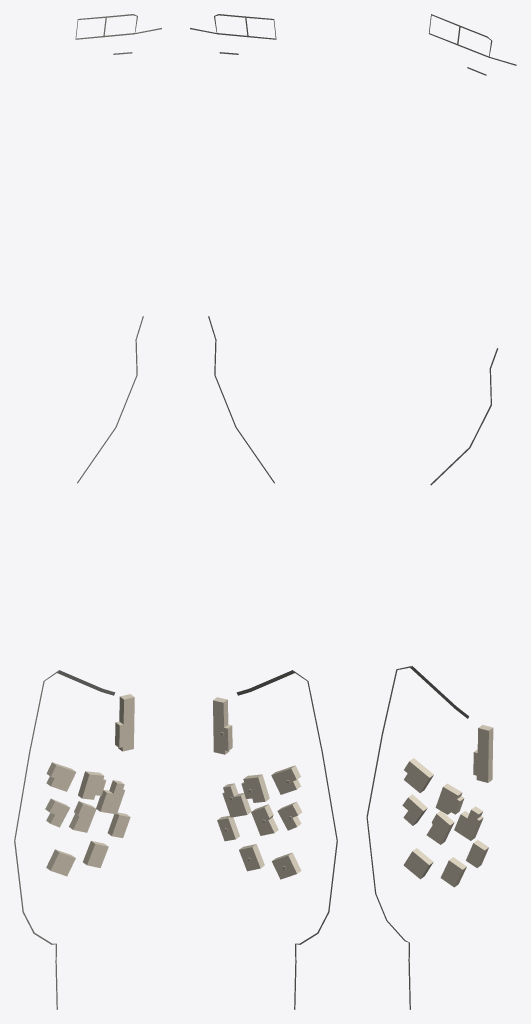
Rendered from historic-palestine-07_30_3488_3249.glb.
3 renders of one model, left to right at view 1: azimuth 30°, elevation 25°; view 2: azimuth 150°, elevation 25°; view 3: azimuth 330°, elevation 25°, orthographic.
Parts seen in each view (by area): view 1: Building_.001, Road .005, Building_.003, Building_.002, Building_.008, Building_, Building_.007, Building_.004, Building_.005, Building_.006; view 2: Building_.001, Road .005, Building_.003, Building_.002, Building_.008, Building_, Building_.007, Building_.004, Building_.005, Building_.006; view 3: Building_.001, Road .005, Building_.003, Building_.008, Building_.002, Building_, Building_.007, Building_.004, Building_.005, Building_.006.
Part boxes in pixels (left/top/right/bottom): Building_.001: left=115, top=694, right=134, bottom=751; Road .005: left=14, top=671, right=57, bottom=1009; Building_.003: left=96, top=780, right=124, bottom=814; Building_.002: left=78, top=771, right=106, bottom=799; Building_.008: left=46, top=762, right=76, bottom=791; Building_: left=69, top=801, right=96, bottom=832; Building_.007: left=46, top=849, right=75, bottom=876; Building_.004: left=83, top=841, right=108, bottom=867; Building_.005: left=45, top=798, right=69, bottom=827; Building_.006: left=107, top=812, right=130, bottom=837; Building_.001: left=213, top=697, right=232, bottom=754; Road .005: left=294, top=671, right=337, bottom=1009; Building_.003: left=222, top=783, right=251, bottom=817; Building_.002: left=241, top=774, right=269, bottom=802; Building_.008: left=271, top=765, right=300, bottom=794; Building_: left=251, top=804, right=278, bottom=835; Building_.007: left=272, top=852, right=301, bottom=879; Building_.004: left=239, top=844, right=264, bottom=871; Building_.005: left=277, top=801, right=302, bottom=830; Building_.006: left=217, top=815, right=239, bottom=841; Building_.001: left=473, top=725, right=493, bottom=782; Road .005: left=366, top=666, right=410, bottom=1009; Building_.003: left=454, top=806, right=483, bottom=840; Building_.008: left=404, top=758, right=433, bottom=792; Building_.002: left=435, top=783, right=464, bottom=814; Building_: left=426, top=811, right=454, bottom=844; Building_.007: left=403, top=848, right=433, bottom=879; Building_.004: left=440, top=857, right=466, bottom=887; Building_.005: left=402, top=794, right=427, bottom=825; Building_.006: left=466, top=840, right=488, bottom=867.
Bounding box in the file's own units: 148 × 942 × 8.7.
